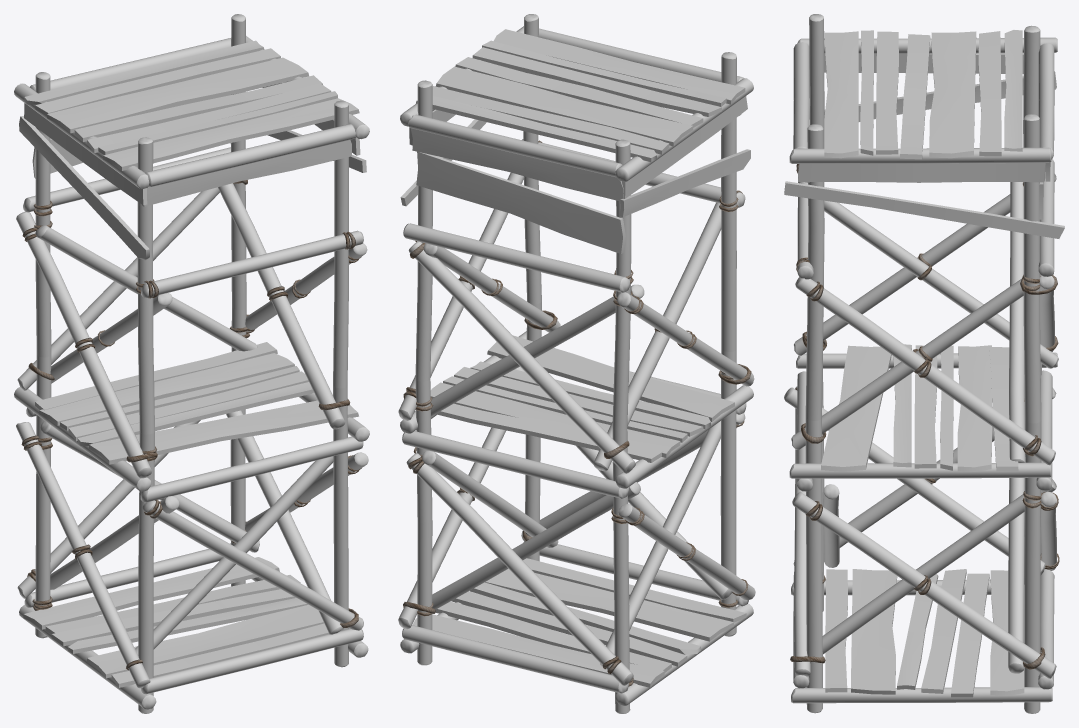
The model's file is SM_Wooden_Scaffolding_01a.fbx.
3 views of the same model, side by side, from view 1: azimuth 30°, elevation 25°; view 2: azimuth 150°, elevation 25°; view 3: azimuth 270°, elevation 25° (orthographic). The views are drawn at different scales.
Visible parts, largest first — view 1: SM_Wooden_Scaffolding_01a_LOD0; view 2: SM_Wooden_Scaffolding_01a_LOD0; view 3: SM_Wooden_Scaffolding_01a_LOD0.
Part boxes in pixels (bbox=[...]): SM_Wooden_Scaffolding_01a_LOD0: bbox=[14, 14, 369, 713]; SM_Wooden_Scaffolding_01a_LOD0: bbox=[398, 14, 755, 713]; SM_Wooden_Scaffolding_01a_LOD0: bbox=[784, 14, 1064, 713].
Bounding box in the file's own units: 288 × 276 × 646.
